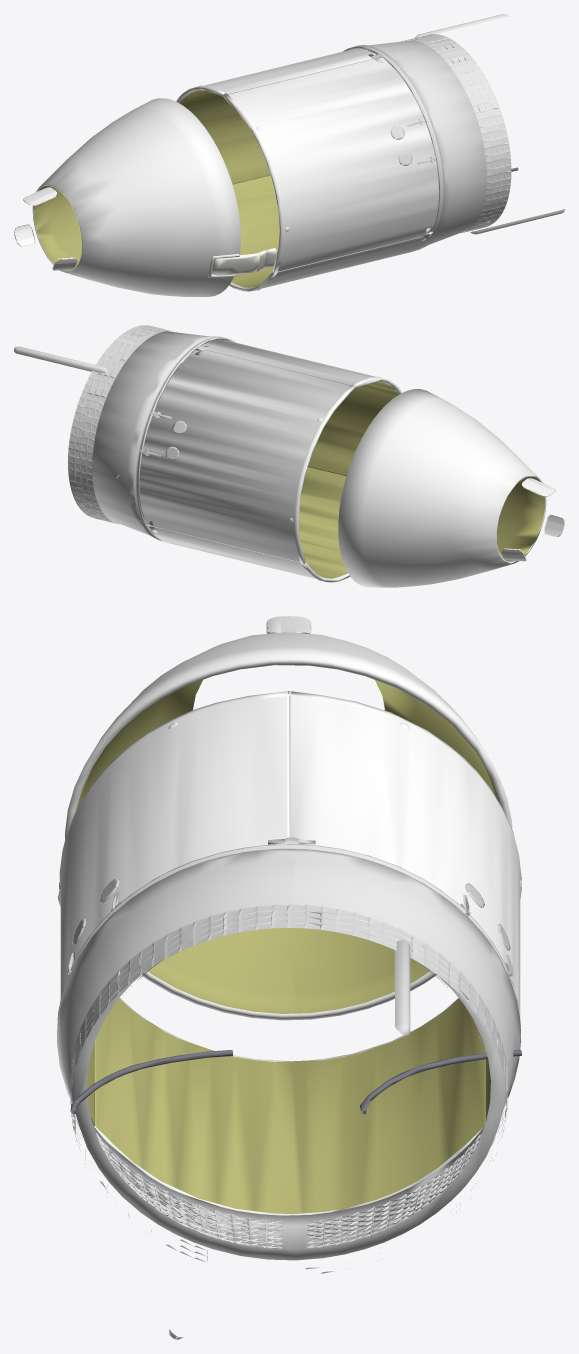
File: sls-orion-spacecraft.glb
3 views of the same model, one above another, from view 1: azimuth 30°, elevation 25°; view 2: azimuth 150°, elevation 25°; view 3: azimuth 270°, elevation 25° (orthographic). The views are drawn at different scales.
Parts seen in each view (by area): view 1: NASA Orion spacecraft stack; view 2: NASA Orion spacecraft stack; view 3: NASA Orion spacecraft stack.
Boxes of the visible parts, x1=… form: NASA Orion spacecraft stack: x1=14, y1=14, x2=564, y2=296; NASA Orion spacecraft stack: x1=14, y1=325, x2=564, y2=587; NASA Orion spacecraft stack: x1=57, y1=616, x2=521, y2=1339.
Bounding box in the file's own units: 15.65 × 5.53 × 6.17.
